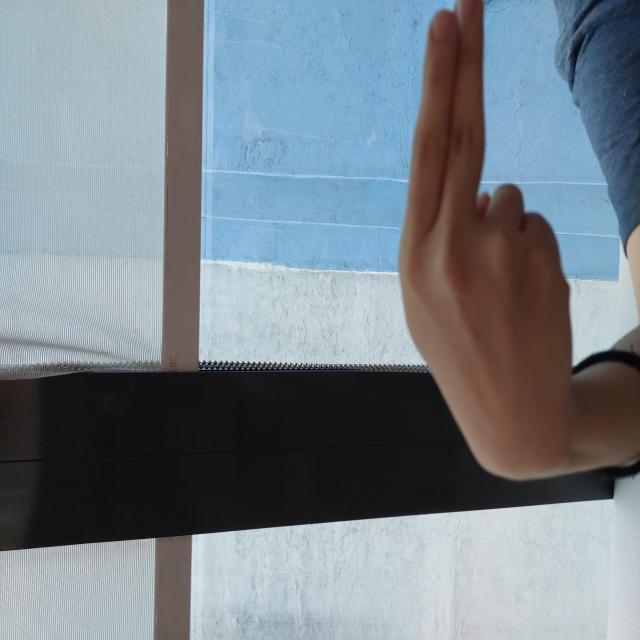H: (161, 396, 640, 575)
